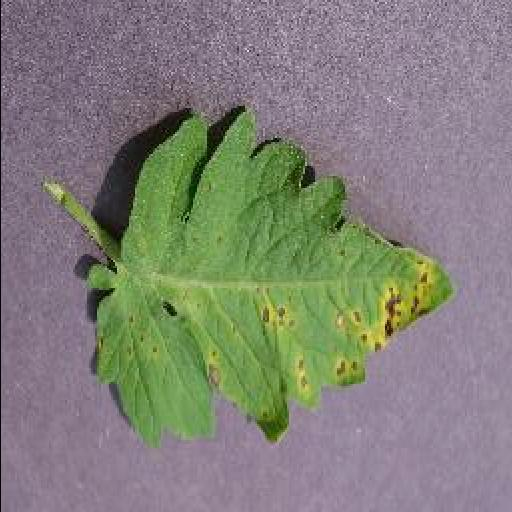disease_tomato: (85, 104, 459, 442)
